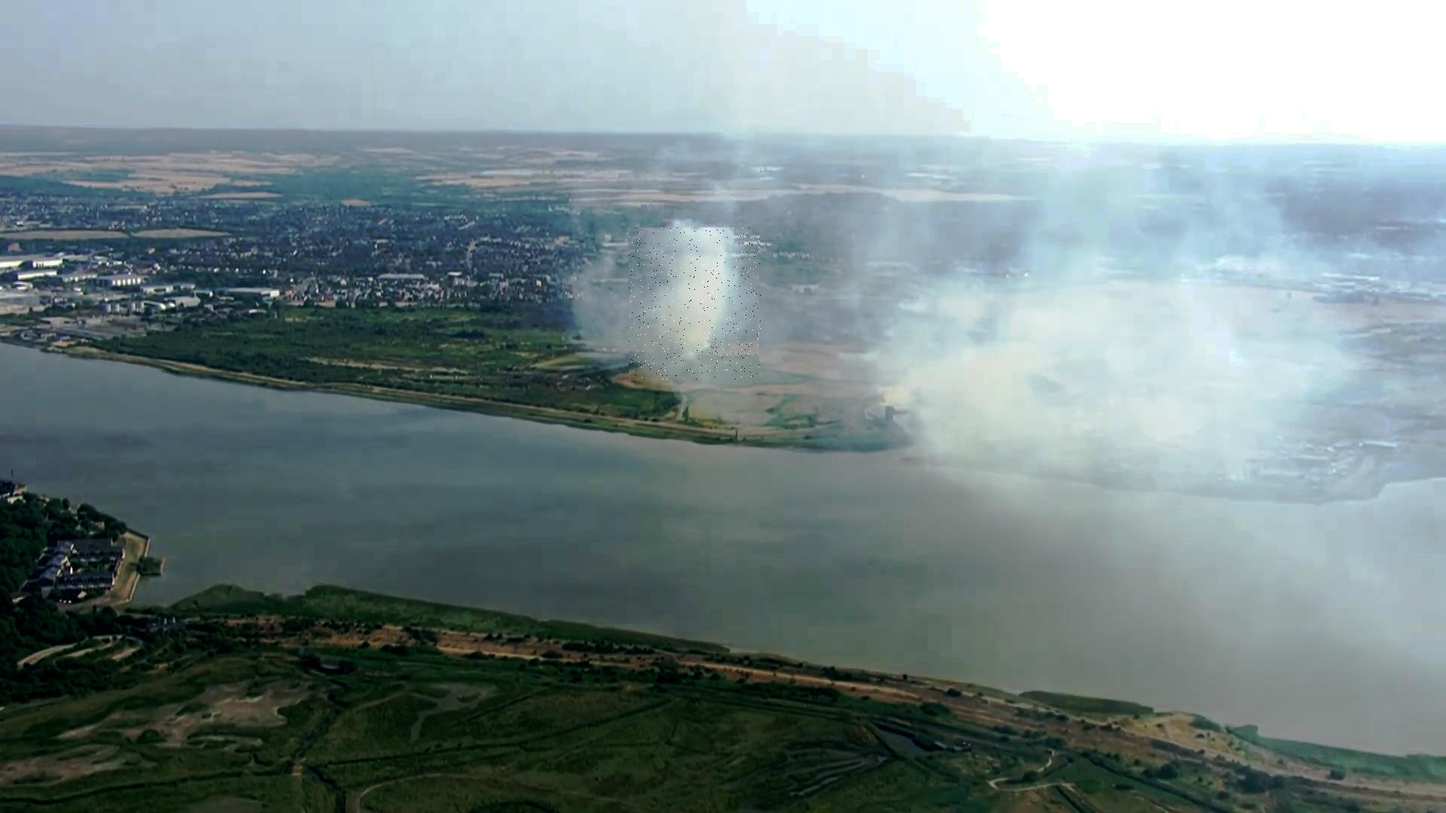smoke: (629, 228, 761, 380)
